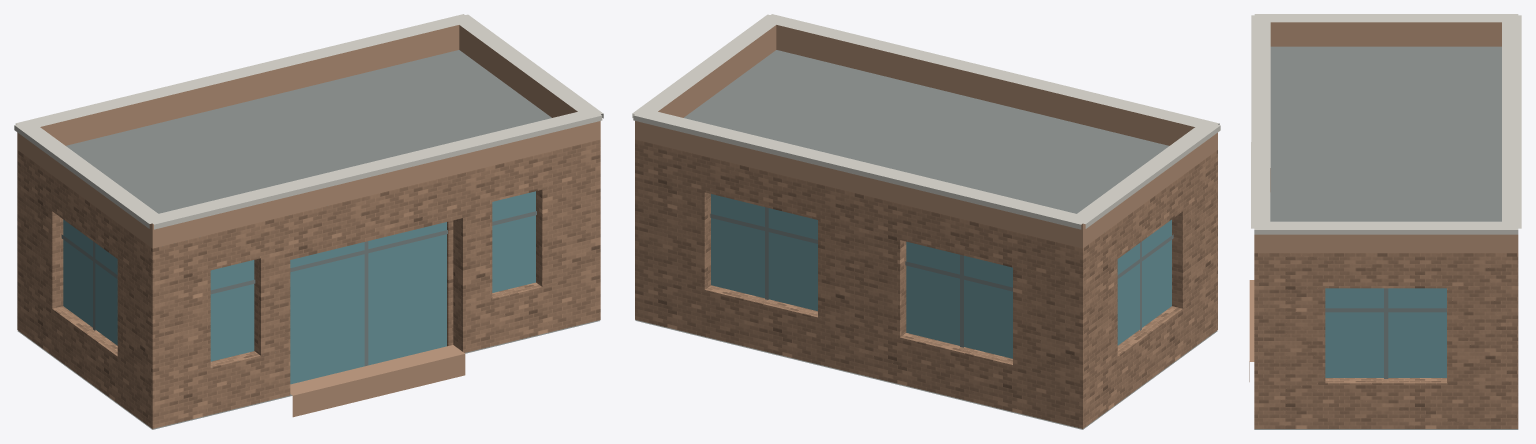
The picture shows the model from 3 angles, left to right: view 1: azimuth 30°, elevation 25°; view 2: azimuth 150°, elevation 25°; view 3: azimuth 270°, elevation 25°; orthographic projection. The views are drawn at different scales.
Visible parts, largest first — view 1: osm532894681__wall, osm532894681__roof, osm532894681__glass, osm532894681__parapet, osm532894681__trim, osm532894681__entranceThreshold_0, osm532894681__frame; view 2: osm532894681__wall, osm532894681__roof, osm532894681__parapet, osm532894681__glass, osm532894681__trim, osm532894681__frame; view 3: osm532894681__roof, osm532894681__wall, osm532894681__trim, osm532894681__parapet, osm532894681__glass, osm532894681__frame, osm532894681__entranceThreshold_0.
Part boxes in pixels (x1,y1,x2,y2): osm532894681__wall: [17, 139, 600, 428]; osm532894681__roof: [17, 50, 600, 429]; osm532894681__glass: [63, 191, 535, 384]; osm532894681__parapet: [17, 25, 600, 248]; osm532894681__trim: [14, 14, 603, 229]; osm532894681__entranceThreshold_0: [290, 345, 465, 417]; osm532894681__frame: [61, 211, 536, 366]; osm532894681__wall: [635, 139, 1217, 428]; osm532894681__roof: [635, 50, 1217, 429]; osm532894681__parapet: [635, 25, 1217, 248]; osm532894681__glass: [711, 194, 1171, 358]; osm532894681__trim: [632, 14, 1220, 229]; osm532894681__frame: [710, 207, 1173, 347]; osm532894681__roof: [1254, 46, 1518, 429]; osm532894681__wall: [1254, 253, 1518, 428]; osm532894681__trim: [1251, 14, 1521, 234]; osm532894681__parapet: [1254, 22, 1518, 252]; osm532894681__glass: [1325, 288, 1446, 377]; osm532894681__frame: [1325, 288, 1446, 378]; osm532894681__entranceThreshold_0: [1249, 280, 1254, 381].
Bounding box in the file's own units: 9.47 × 4.5 × 5.04.
8 materials, 1 textured.
